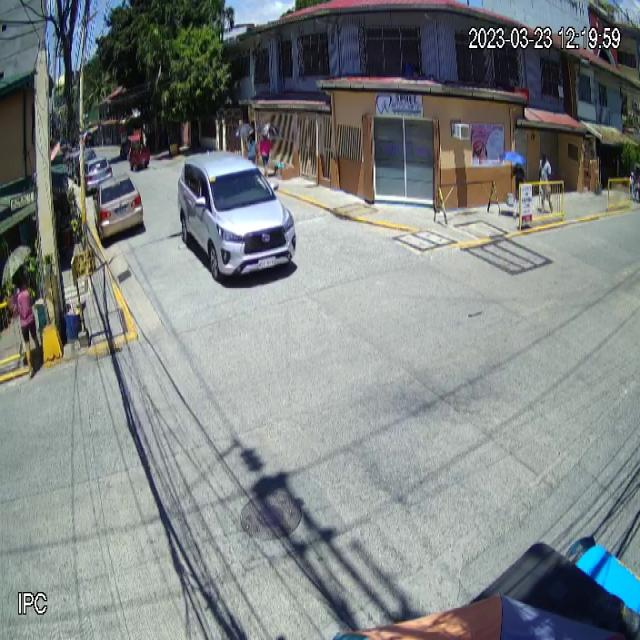Car: (177, 149, 296, 286)
